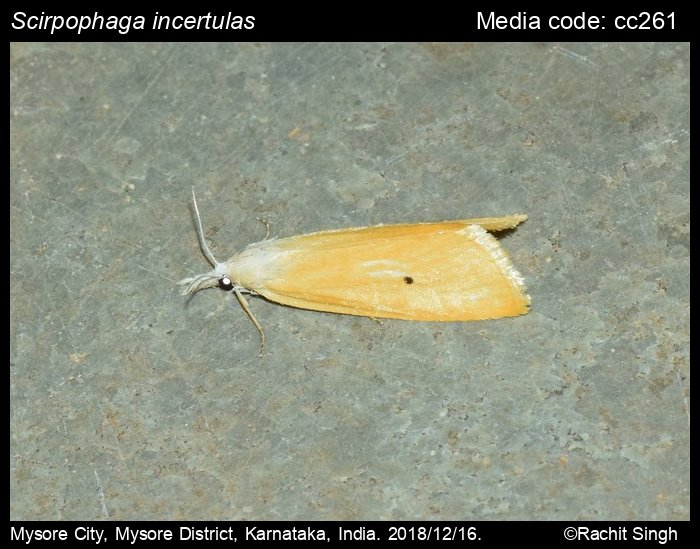Crambidae: (172, 184, 539, 350)
